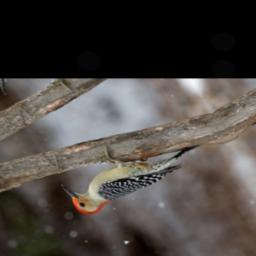Woodpecker: (48, 115, 212, 219)
